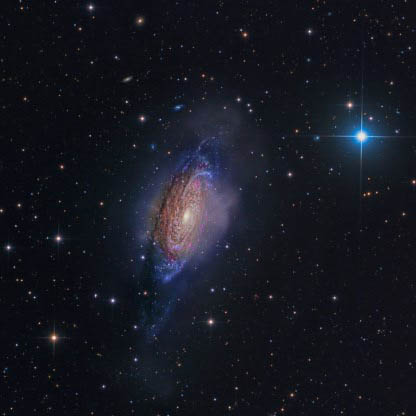NGC 3521: (103, 94, 295, 350)
